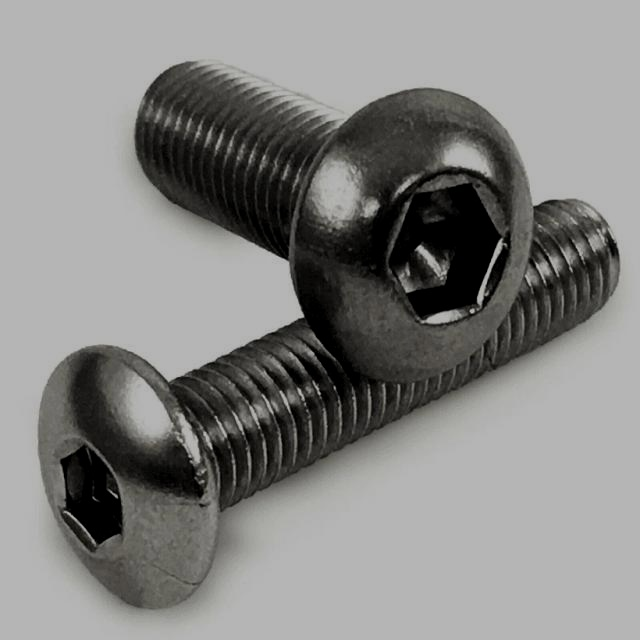allen: (384, 176, 505, 323), (56, 443, 127, 556)
